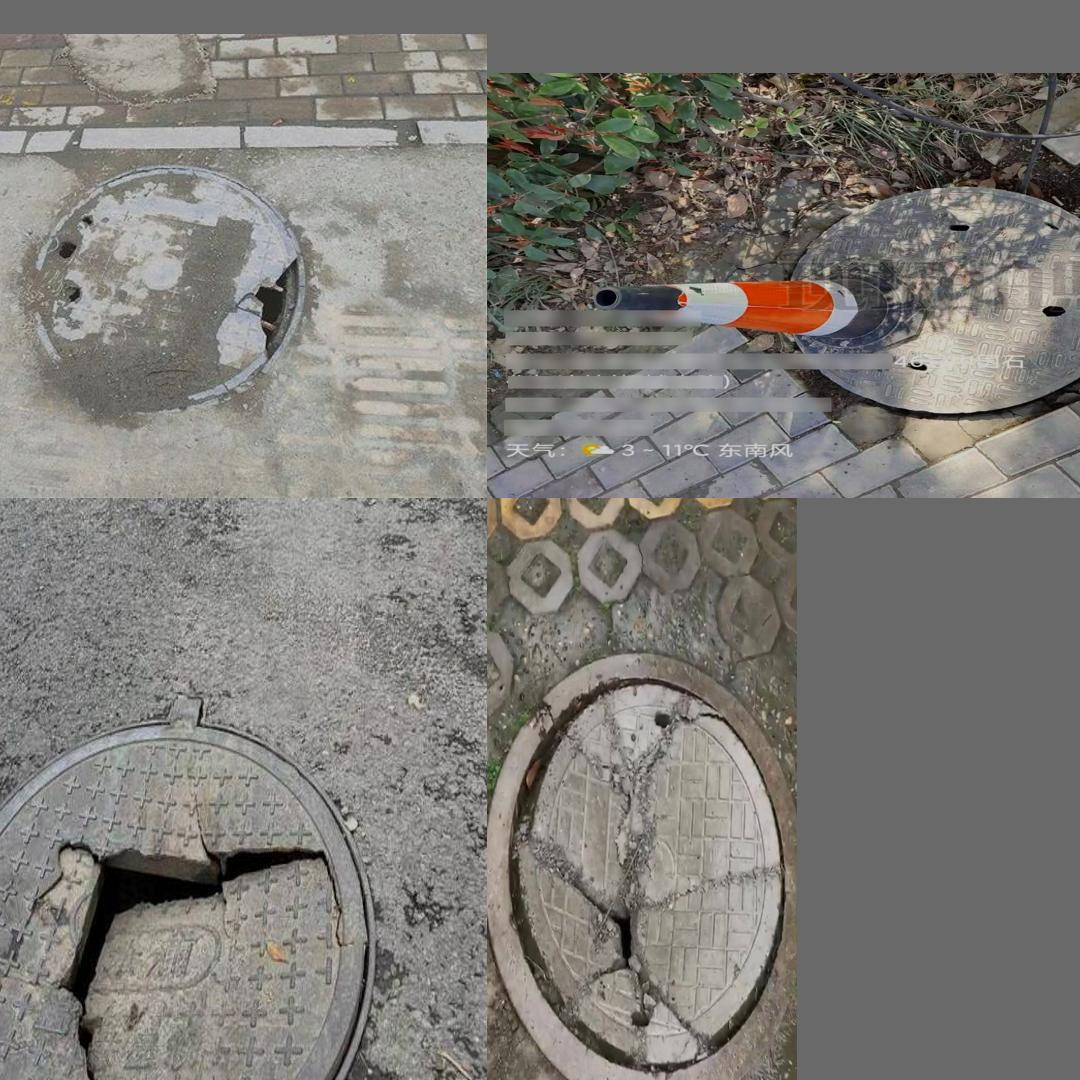broke: (0, 711, 383, 1080), (507, 677, 788, 1076), (8, 158, 321, 424), (777, 185, 1080, 414)
